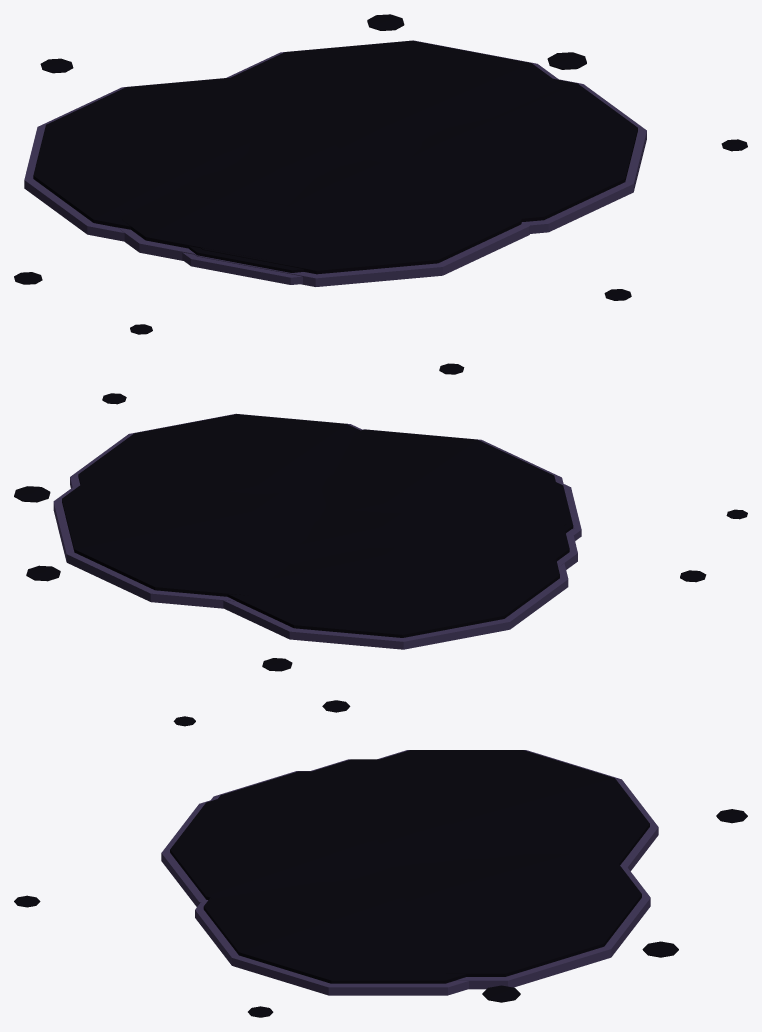
File: hero_karma_floor_30.glb
3 renders of one model, top to bottom at view 1: azimuth 30°, elevation 25°; view 2: azimuth 150°, elevation 25°; view 3: azimuth 270°, elevation 25°, orthographic. The views are drawn at different scales.
Parts seen in each view (by area): view 1: hero_karma_floor_30; view 2: hero_karma_floor_30; view 3: hero_karma_floor_30.
Boxes of the visible parts, left/top/right/bottom form: hero_karma_floor_30: left=14, top=14, right=747, bottom=334; hero_karma_floor_30: left=14, top=363, right=747, bottom=671; hero_karma_floor_30: left=14, top=700, right=747, bottom=1017.
Size of the model in its own units: 2.62 by 0.0813 by 2.56.
